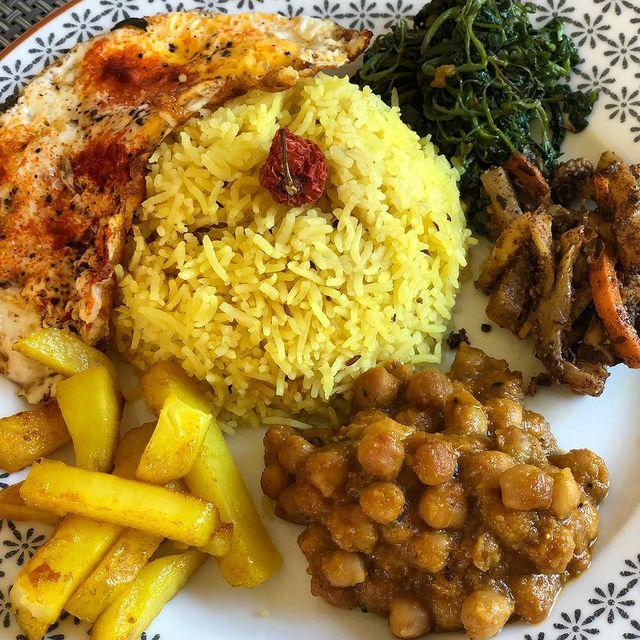Chole: (298, 355, 580, 640)
